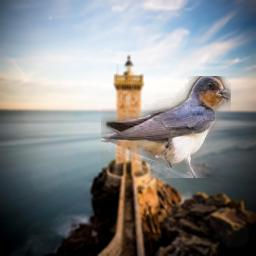Swallow: (101, 76, 231, 178)
